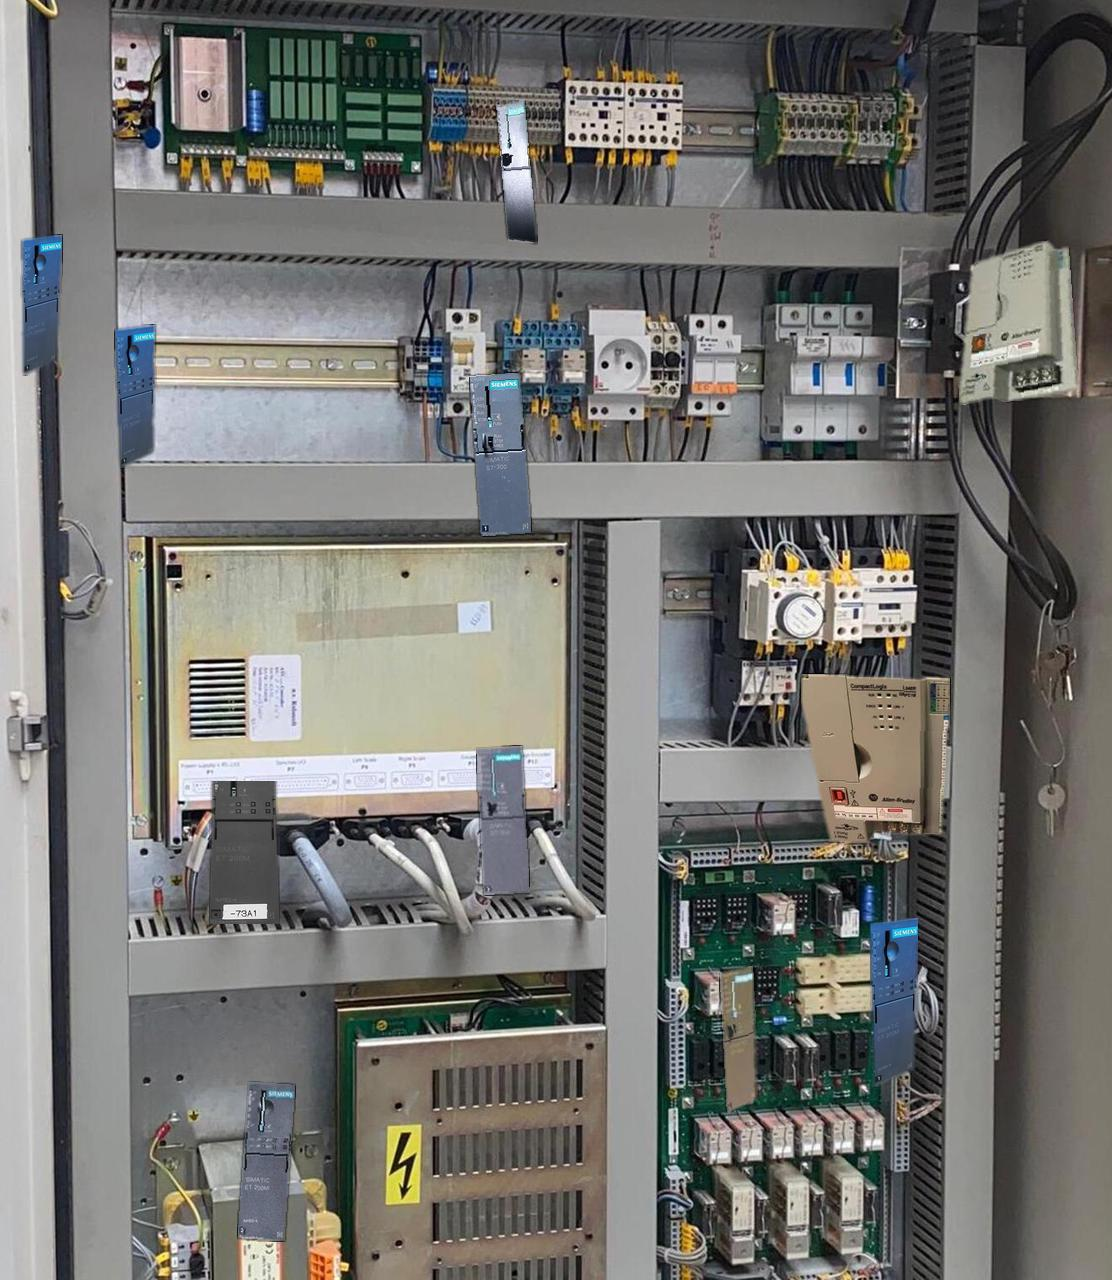AllenBradley: (801, 674, 949, 842), (959, 241, 1076, 403)
Siemens: (469, 373, 531, 536), (475, 746, 529, 894), (496, 100, 536, 242), (720, 967, 755, 1112)
